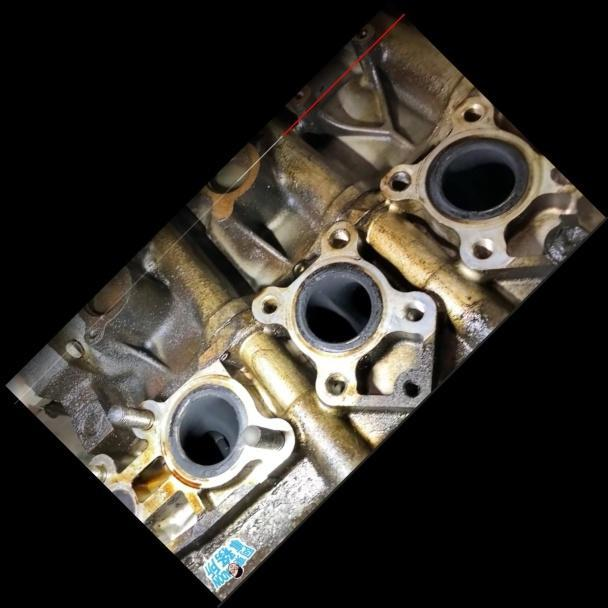hole: (395, 293, 430, 328), (464, 231, 499, 265), (318, 366, 352, 401), (382, 164, 415, 197), (322, 222, 354, 254), (456, 96, 488, 128), (254, 291, 281, 318)
